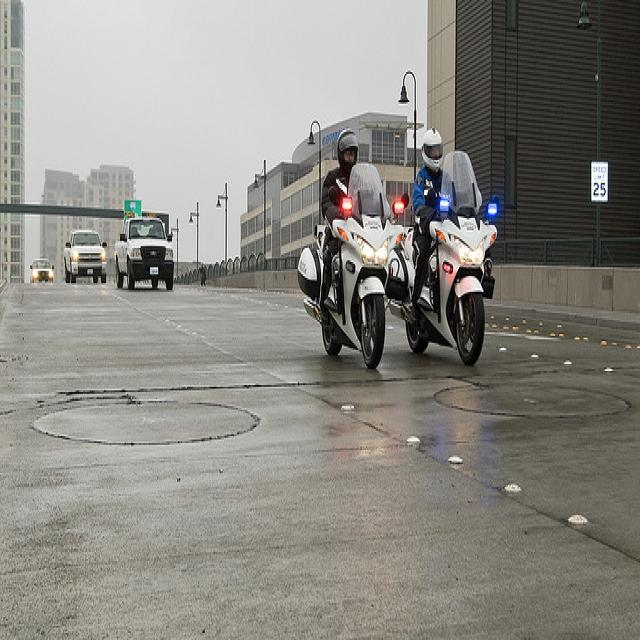motor: (385, 146, 501, 364), (297, 162, 411, 370)
